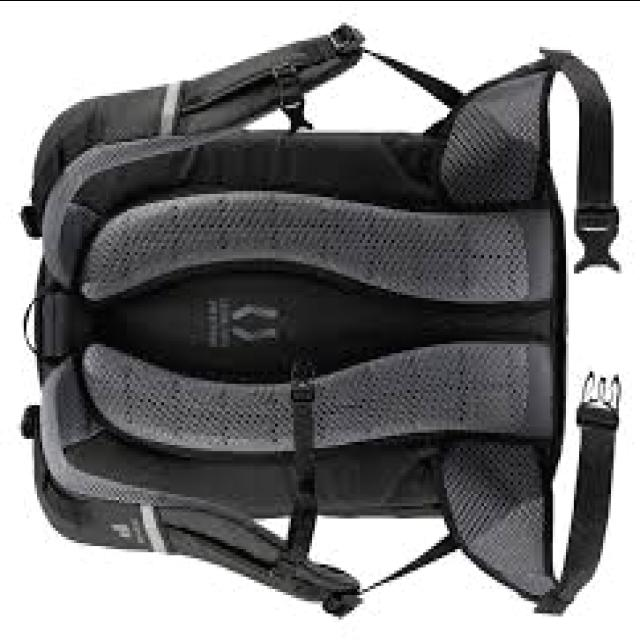backpack: (17, 26, 623, 620)
